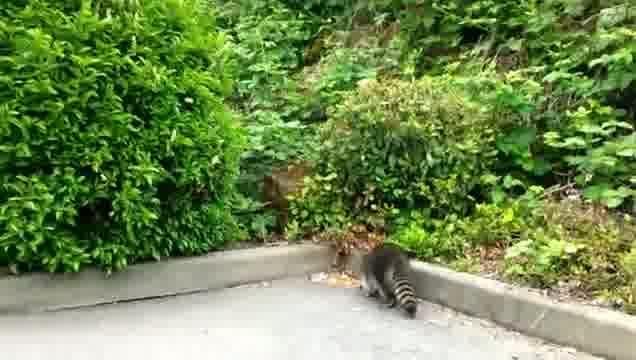raccoon: (360, 244, 418, 316)
